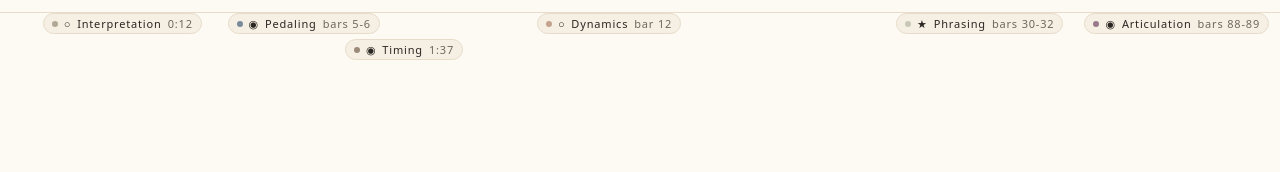
Test: SessionTimelineStrip › uses renderDetail instead of MarkDetail when provided
The image size is (1280, 172).
Click the button with aria-label "Needs work: Pedaling, bars 5-6": {"x": 304, "y": 24} [228,13,380,34]
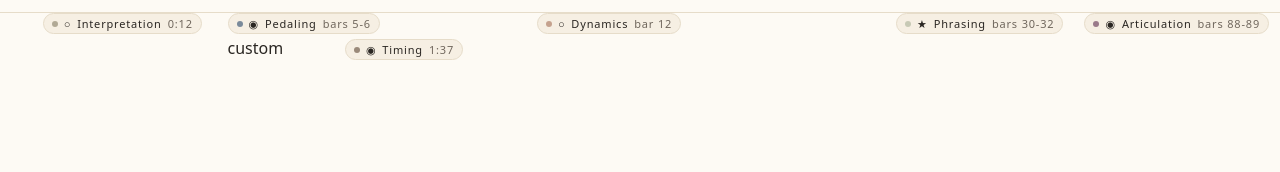
Check: the button with test id "custom-detail-m1" is shown, box [228,34,283,62]
